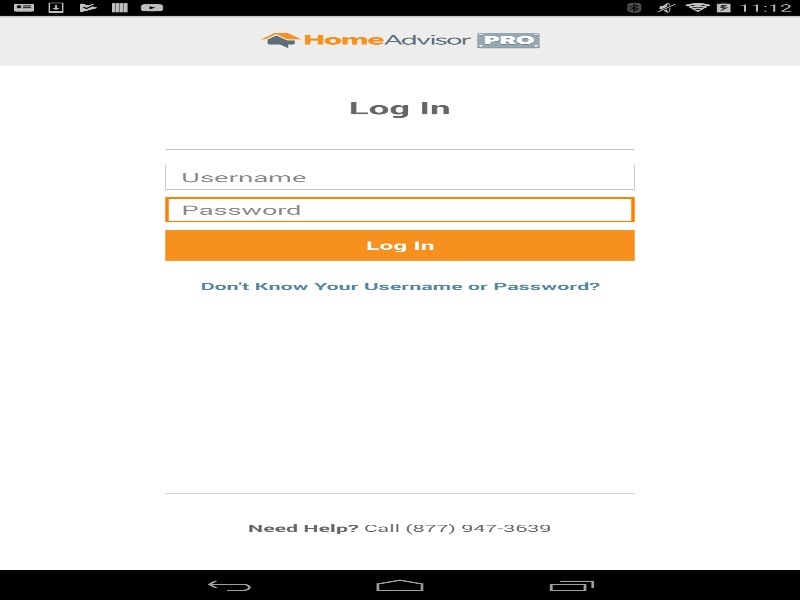Button: (165, 229, 634, 260)
Input: (165, 164, 634, 189), (165, 197, 634, 222)
